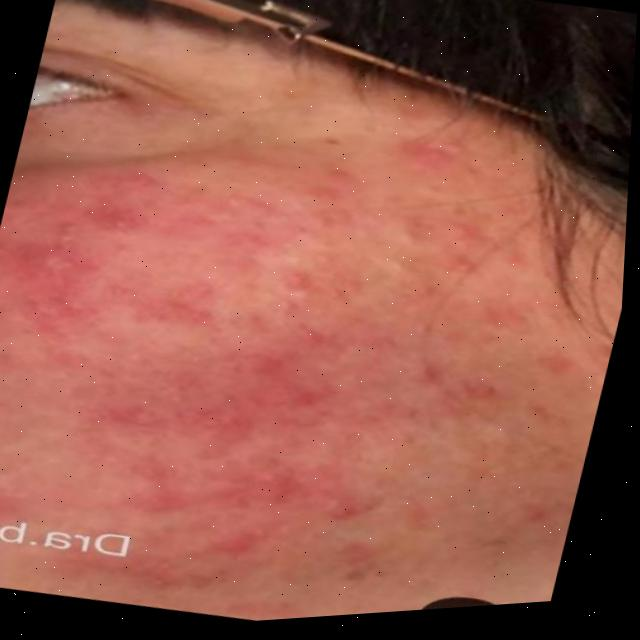Rosacea: (0, 36, 636, 640)
